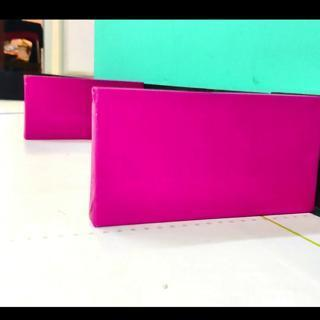xparking: (94, 89, 320, 227), (26, 80, 91, 140)
